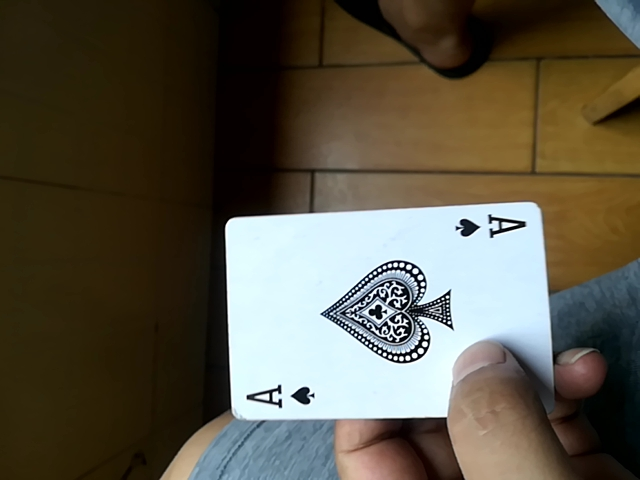ht a: (223, 196, 549, 417)
